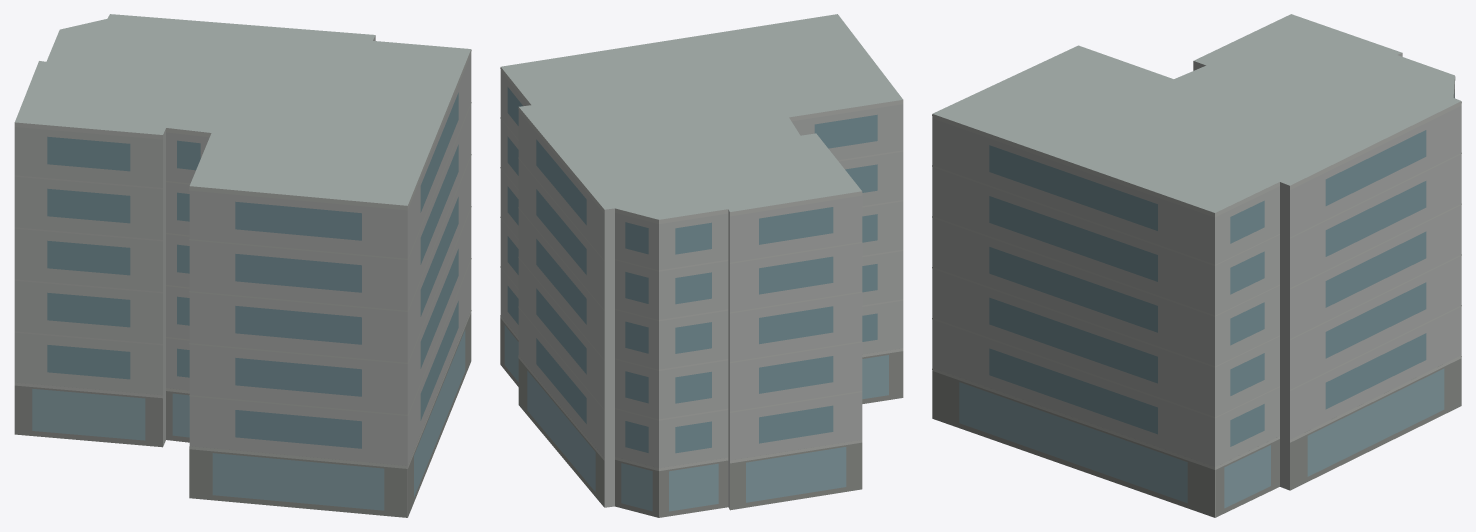
File: survey-upis-32836145.glb
3 views of the same model, side by side, from view 1: azimuth 30°, elevation 25°; view 2: azimuth 150°, elevation 25°; view 3: azimuth 270°, elevation 25° (orthographic). The views are drawn at different scales.
Visible parts, largest first — view 1: survey-upis-32836145.tmp; view 2: survey-upis-32836145.tmp; view 3: survey-upis-32836145.tmp.
Boxes of the visible parts, x1=… form: survey-upis-32836145.tmp: x1=14, y1=14, x2=471, y2=517; survey-upis-32836145.tmp: x1=500, y1=14, x2=903, y2=517; survey-upis-32836145.tmp: x1=932, y1=14, x2=1461, y2=517.
Size of the model in its own units: 23.55 by 16.8 by 26.46.
